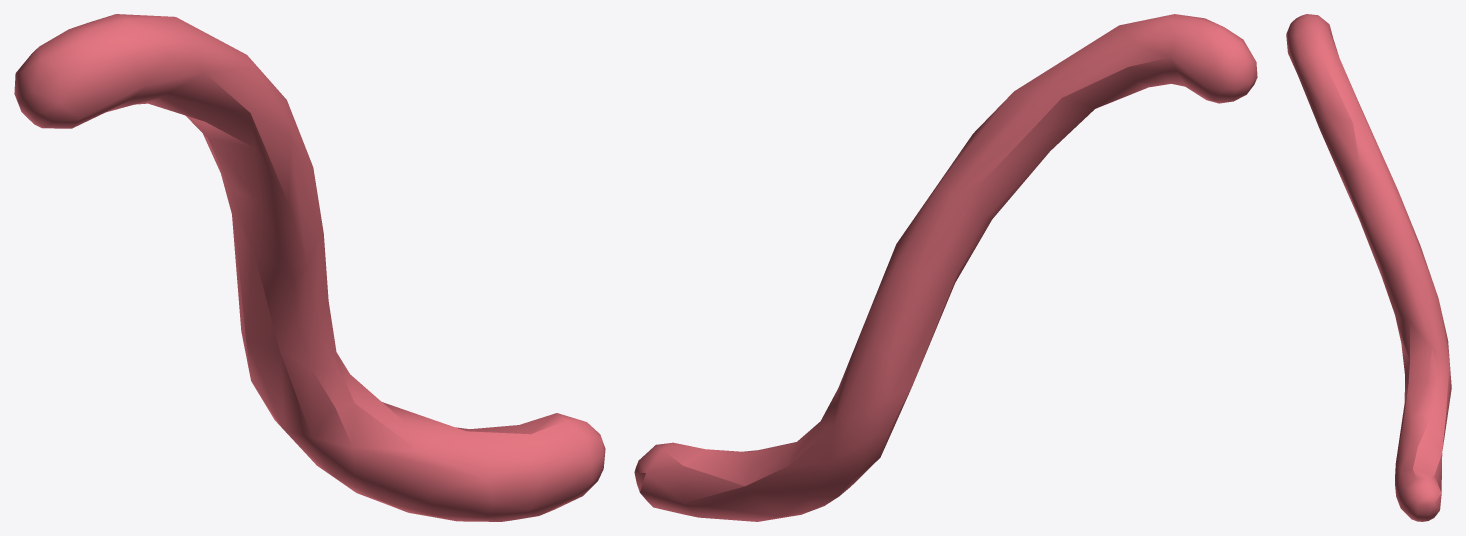
File: fma76128_fj1718.glb
3 views of the same model, side by side, from view 1: azimuth 30°, elevation 25°; view 2: azimuth 150°, elevation 25°; view 3: azimuth 270°, elevation 25° (orthographic). The views are drawn at different scales.
Parts seen in each view (by area): view 1: FMA76128_FJ1718; view 2: FMA76128_FJ1718; view 3: FMA76128_FJ1718.
Part boxes in pixels (x1=…): FMA76128_FJ1718: x1=14, y1=14, x2=605, y2=521; FMA76128_FJ1718: x1=634, y1=14, x2=1257, y2=521; FMA76128_FJ1718: x1=1286, y1=14, x2=1451, y2=521.
Bounding box in the file's own units: 0.0176 × 0.017 × 0.00713.
